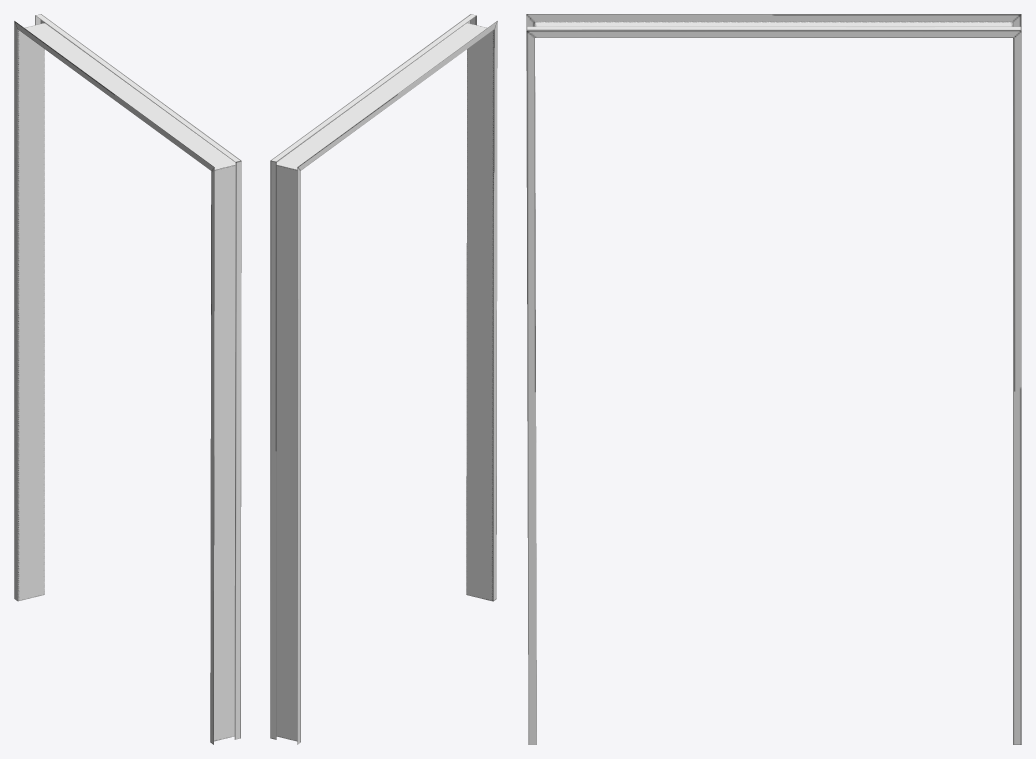
The picture shows the model from 3 angles, left to right: view 1: azimuth 30°, elevation 25°; view 2: azimuth 150°, elevation 25°; view 3: azimuth 270°, elevation 25°; orthographic projection. The views are drawn at different scales.
Parts seen in each view (by area): view 1: 门框; view 2: 门框; view 3: 门框.
Boxes of the visible parts, x1,y1,x2,y2 form: 门框: [14, 14, 241, 744]; 门框: [270, 14, 497, 744]; 门框: [526, 14, 1021, 744].
Bounding box in the file's own units: 1.4 × 28.7 × 18.02.
